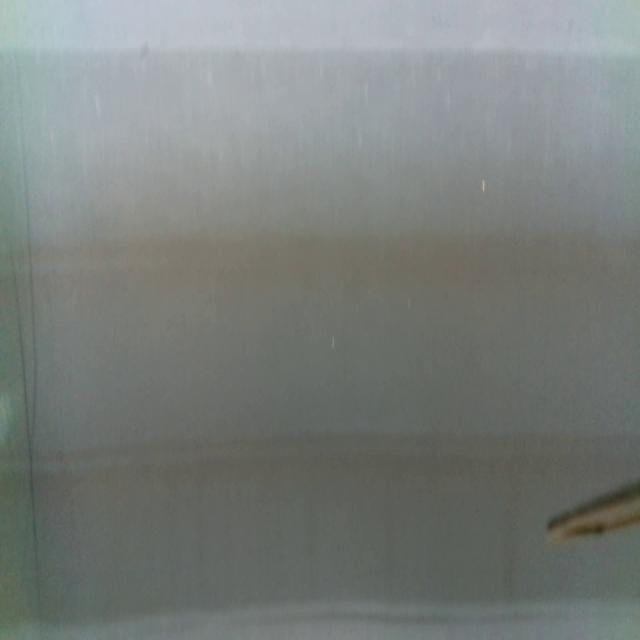color bleeding: (0, 218, 640, 325), (0, 431, 595, 498)
crease: (15, 68, 43, 598)
hole: (480, 178, 489, 194)
